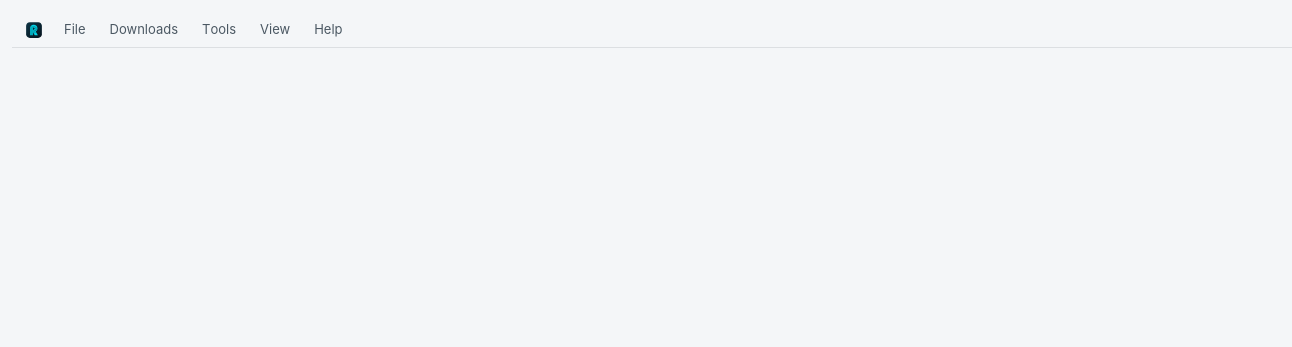
Test: TitleBarComponent › in a plain browser › a click on the open menu closes it, and Escape closes it and returns focus
Click the menu item with class "top-button" showing "F ile": (75, 30) [52,16,98,44]
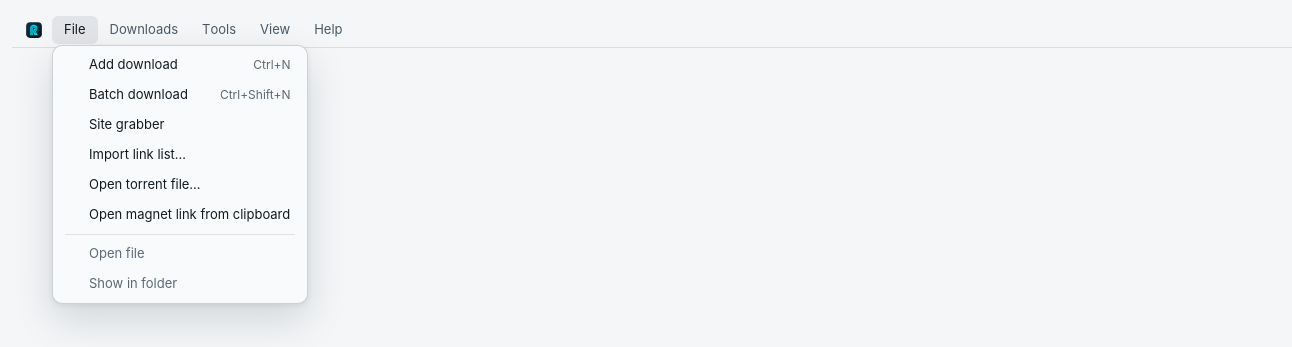
Click the menu item with class "top-button" showing "F ile": (75, 30) [52,16,98,44]
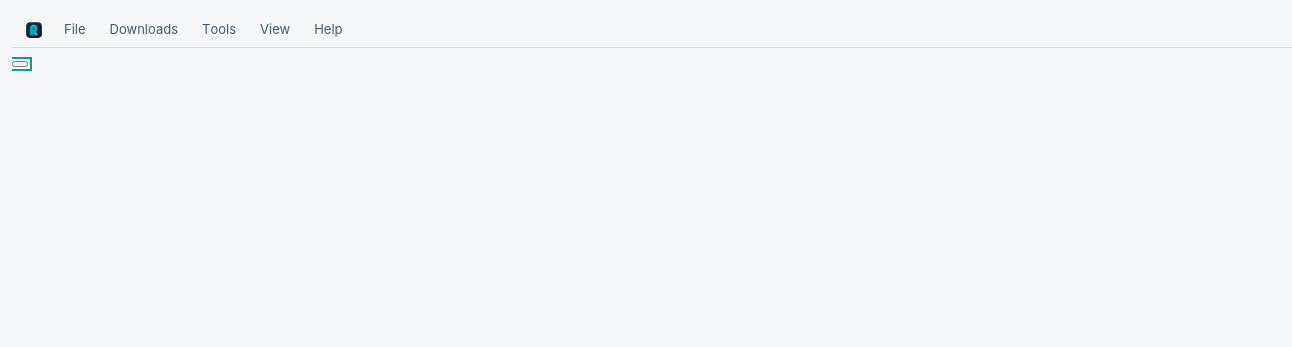
Expected: the menu is gone
Click the menu item with class "top-button" showing "T ools": (219, 30) [190,16,248,44]
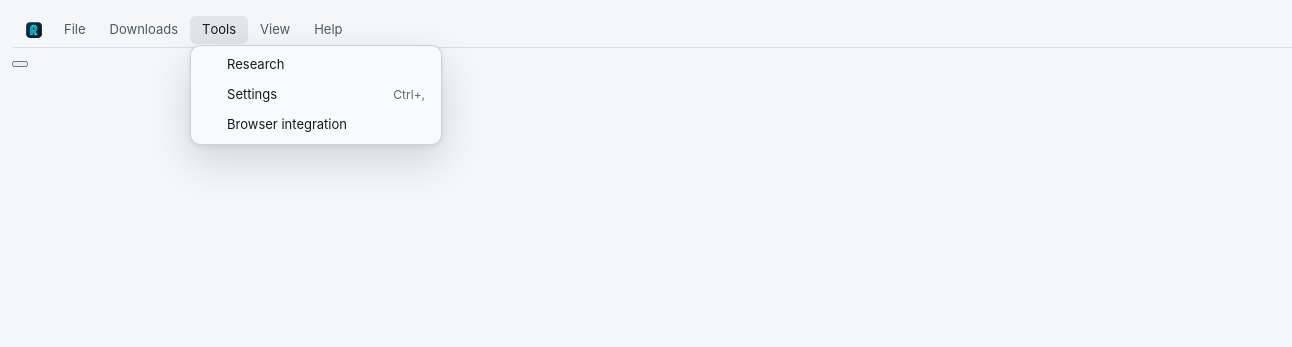
Expected: the menu is shown
Press Escape in the menu, box [190,45,442,145]
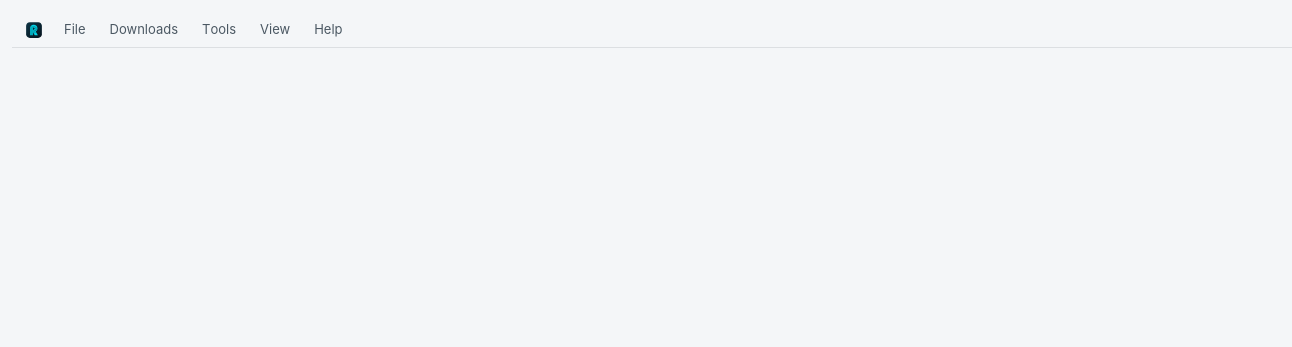
Expected: the menu is gone
